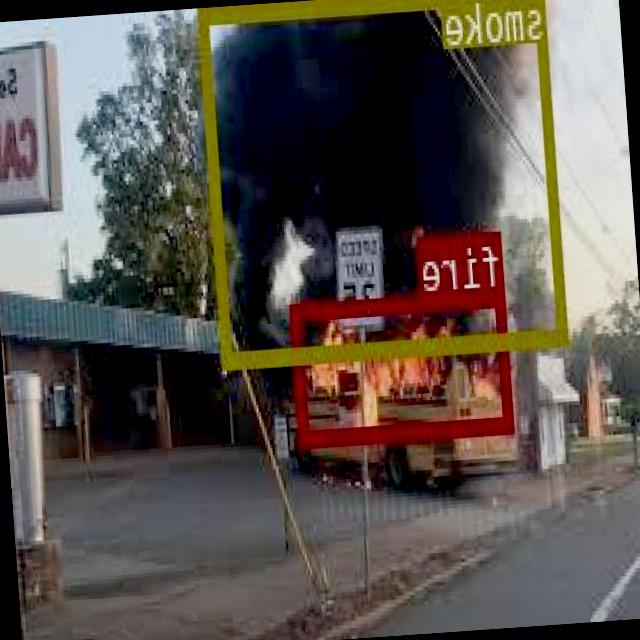fire: (292, 288, 515, 445)
smoke: (200, 0, 570, 362)
